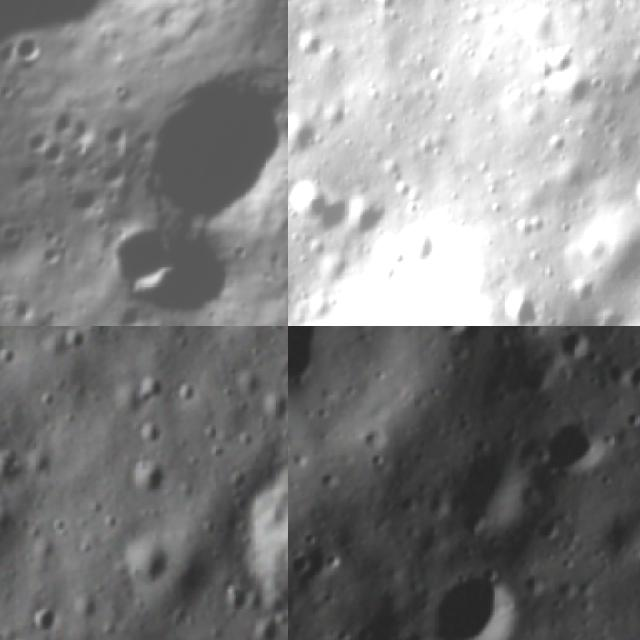crater: (288, 326, 405, 596), (429, 429, 551, 551), (403, 555, 543, 640), (237, 464, 288, 630), (524, 405, 610, 491), (108, 538, 172, 600), (288, 178, 354, 235), (1, 19, 56, 82), (396, 218, 448, 278), (537, 326, 603, 372), (288, 105, 327, 165), (497, 282, 543, 326), (425, 326, 478, 348), (0, 450, 21, 487), (628, 158, 640, 219)
